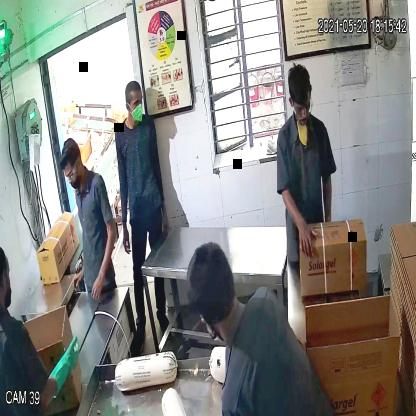goggles: (289, 92, 314, 124), (60, 164, 80, 187)
